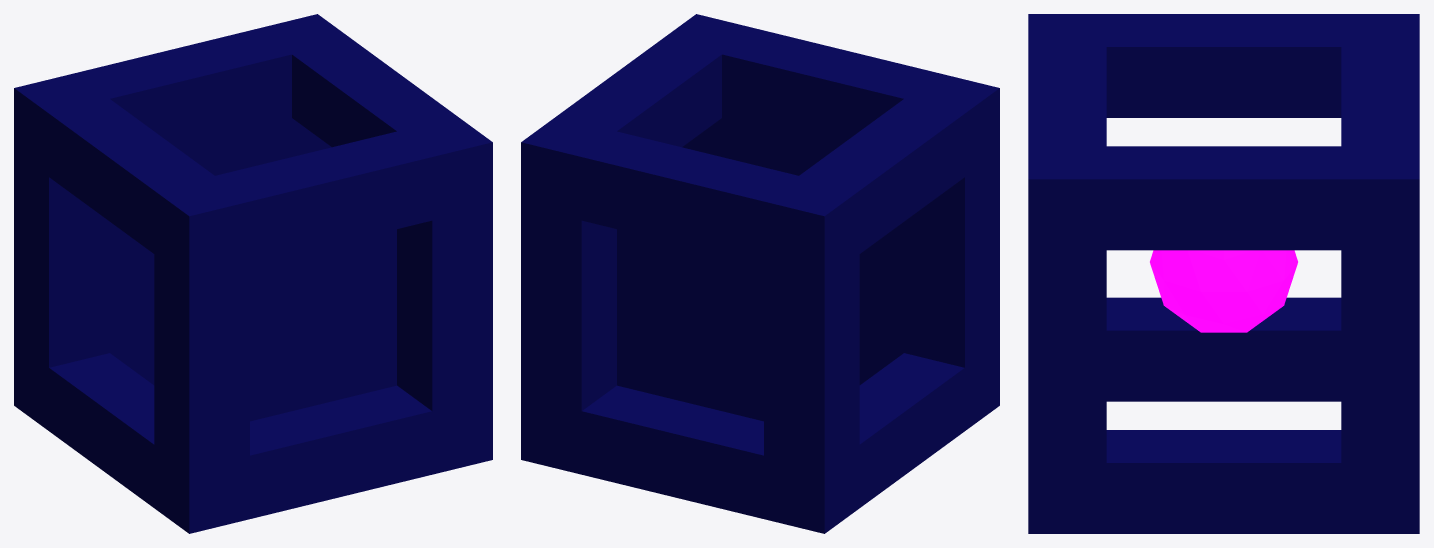
The model's file is quantum_core.fbx.
3 views of the same model, side by side, from view 1: azimuth 30°, elevation 25°; view 2: azimuth 150°, elevation 25°; view 3: azimuth 270°, elevation 25° (orthographic). The views are drawn at different scales.
Parts seen in each view (by area): view 1: Cube; view 2: Cube; view 3: Cube, Icosphere.
Part boxes in pixels (x1,y1,x2,y2): Cube: [14, 14, 492, 533]; Cube: [521, 14, 999, 533]; Cube: [1028, 14, 1419, 533]; Icosphere: [1150, 250, 1297, 332].
Bounding box in the file's own units: 50 × 50 × 50.
